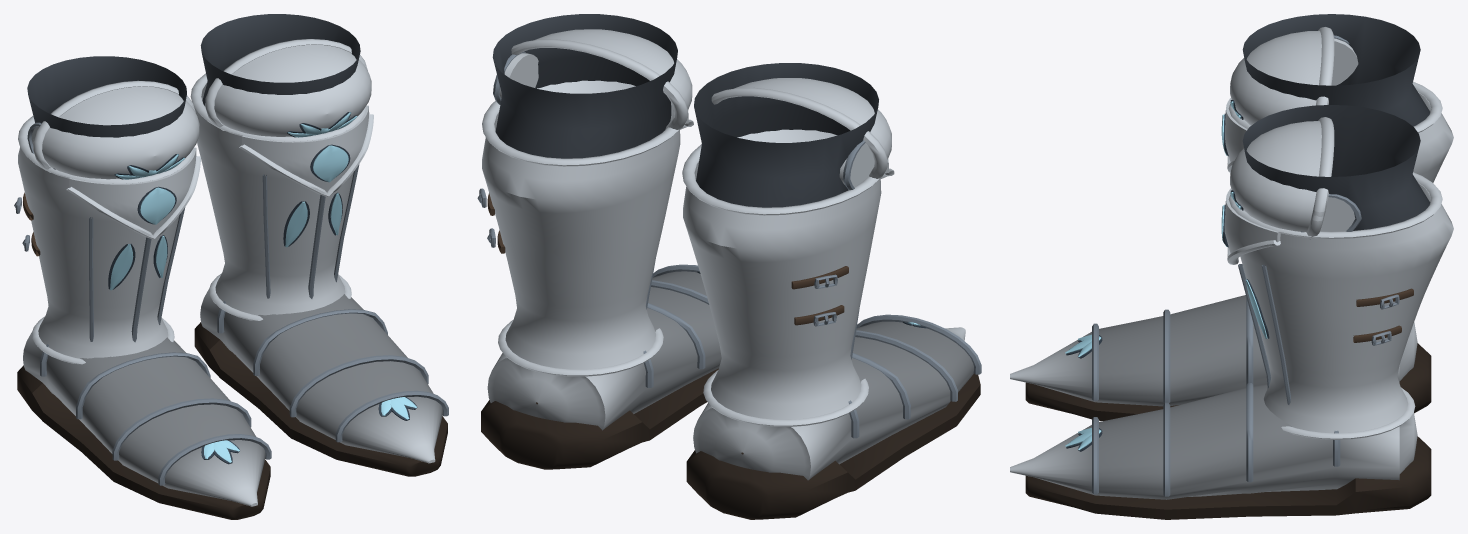
Rendered from f_mithril_d.glb.
The picture shows the model from 3 angles, left to right: view 1: azimuth 30°, elevation 25°; view 2: azimuth 150°, elevation 25°; view 3: azimuth 270°, elevation 25°; orthographic projection. The views are drawn at different scales.
Visible parts, largest first — view 1: LegR_Boot, LegL_Boot, LegR_BootFoot, LegL_BootFoot; view 2: LegL_Boot, LegR_Boot, LegR_BootFoot, LegL_BootFoot; view 3: LegL_Boot, LegL_BootFoot, LegR_BootFoot, LegR_Boot.
Part boxes in pixels (x1,y1,x2,y2): LegR_Boot: [14, 56, 200, 364]; LegL_Boot: [190, 14, 373, 320]; LegR_BootFoot: [17, 332, 271, 519]; LegL_BootFoot: [194, 289, 448, 476]; LegL_Boot: [477, 14, 693, 376]; LegR_Boot: [682, 63, 894, 426]; LegR_BootFoot: [686, 314, 981, 519]; LegL_BootFoot: [481, 264, 721, 469]; LegL_Boot: [1221, 105, 1453, 439]; LegL_BootFoot: [1010, 383, 1431, 519]; LegR_BootFoot: [1010, 295, 1431, 420]; LegR_Boot: [1221, 14, 1453, 182].
Size of the model in its own units: 0.4152 by 0.3923 by 0.4441.
